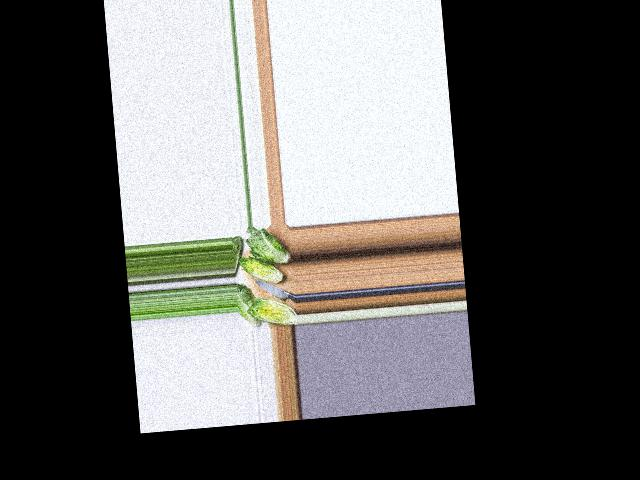lettuce: (237, 283, 260, 327)
